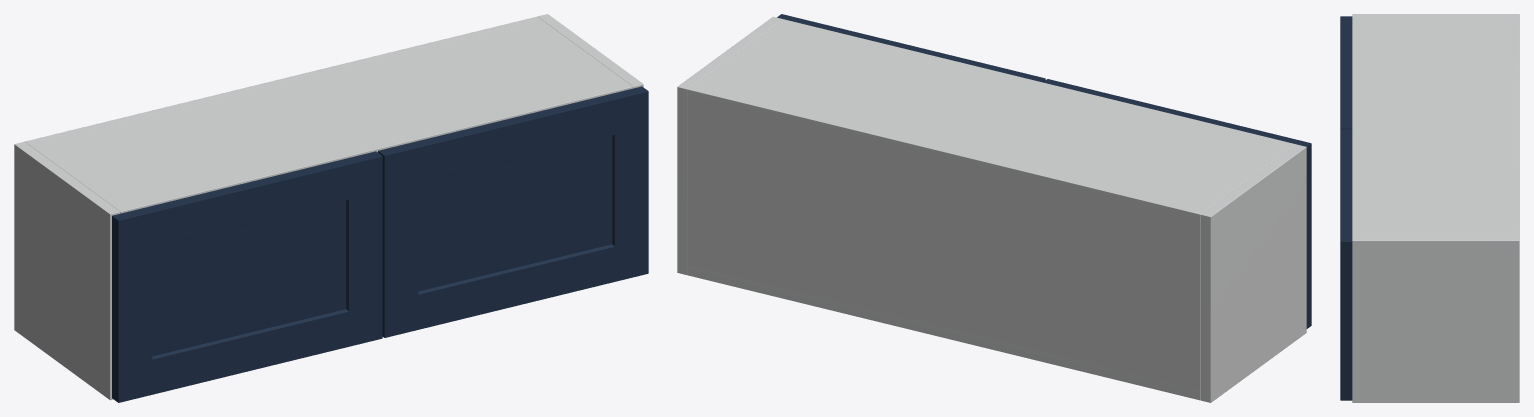
The model's file is oppein-ply-bss-w3612.glb.
3 renders of one model, left to right at view 1: azimuth 30°, elevation 25°; view 2: azimuth 150°, elevation 25°; view 3: azimuth 270°, elevation 25°, orthographic. The views are drawn at different scales.
Visible parts, largest first — view 1: Door, Door.001, Cabinet top, Cabinet side, Cabinet back, Cabinet side.001; view 2: Cabinet back, Cabinet top, Cabinet side, Cabinet bottom, Cabinet side.001, Door, Door.001; view 3: Cabinet top, Cabinet side.001, Door.001, Cabinet back, Door, Cabinet side.
Part boxes in pixels (x1,y1,x2,y2): Door: [112, 151, 382, 402]; Door.001: [378, 86, 648, 337]; Cabinet top: [28, 17, 633, 213]; Cabinet side: [14, 141, 120, 400]; Cabinet back: [25, 16, 540, 144]; Cabinet side.001: [537, 14, 643, 88]; Cabinet back: [687, 86, 1203, 400]; Cabinet top: [687, 19, 1295, 223]; Cabinet side: [1200, 144, 1306, 402]; Cabinet bottom: [687, 265, 1200, 400]; Cabinet side.001: [677, 16, 783, 275]; Door: [1043, 79, 1311, 328]; Door.001: [777, 14, 1045, 82]; Cabinet top: [1352, 18, 1519, 236]; Cabinet side.001: [1352, 236, 1519, 402]; Door.001: [1340, 129, 1352, 400]; Cabinet back: [1512, 18, 1519, 236]; Door: [1340, 16, 1352, 129]; Cabinet side: [1352, 14, 1519, 18].
Size of the model in its own units: 0.9144 by 0.3048 by 0.3048.
